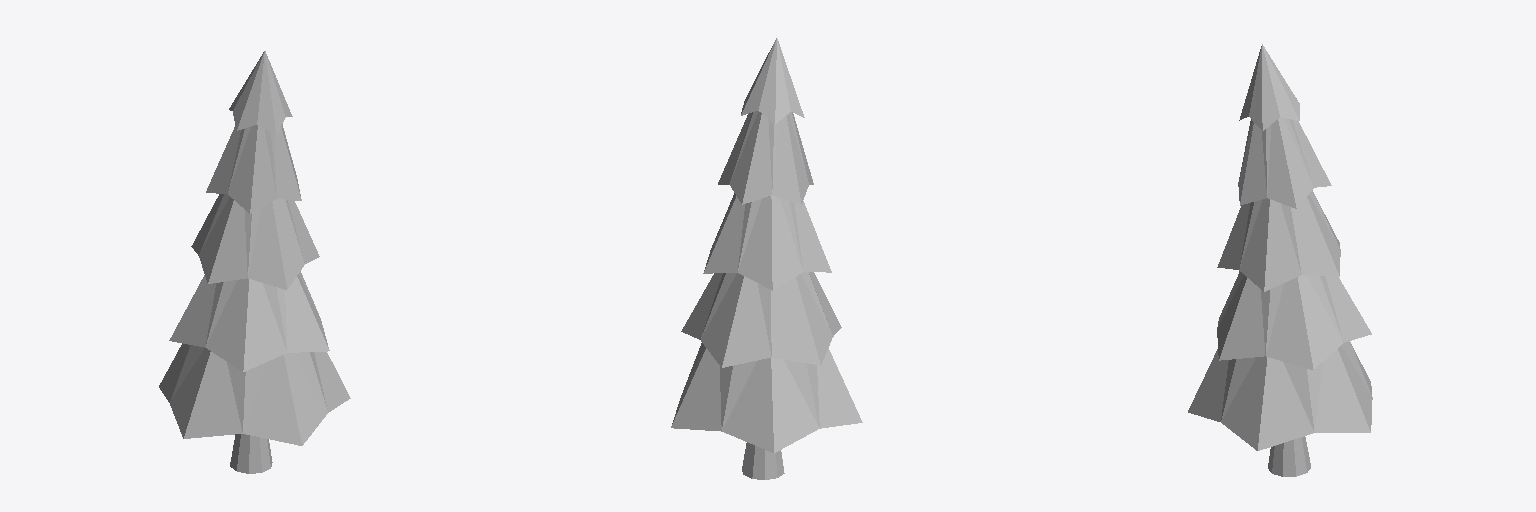
File: TreeSwaying3.obj
3 renders of one model, left to right at view 1: azimuth 30°, elevation 25°; view 2: azimuth 150°, elevation 25°; view 3: azimuth 270°, elevation 25°, orthographic.
Visible parts, largest first — view 1: Cylinder.001; view 2: Cylinder.001; view 3: Cylinder.001.
Boxes of the visible parts, box(x1,y1,x2,y2) form: Cylinder.001: box(159, 51, 350, 473); Cylinder.001: box(671, 38, 862, 479); Cylinder.001: box(1188, 44, 1372, 476).
Bounding box in the file's own units: 5.86 × 14.22 × 5.62.